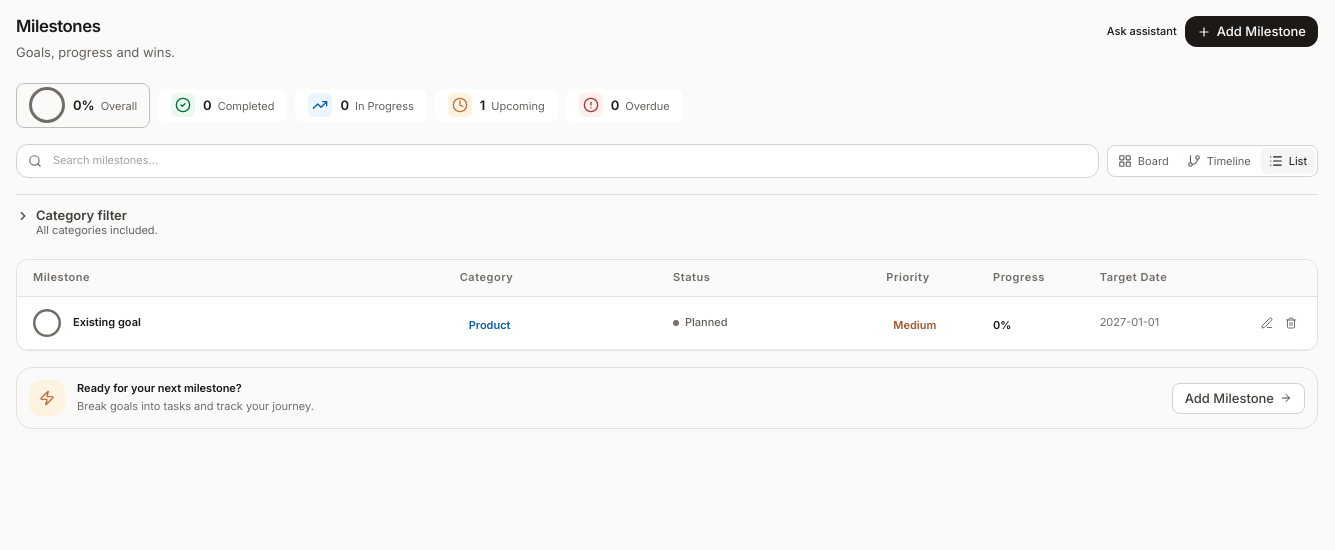
Test: milestone editing after the clarity layout change › renders a created record once when a write notification wins the race
expect the element named "Milestone details table" is shown: met, box x1=16 y1=259 x2=1318 y2=351
Click the button "Add Milestone" in the row of "Goals, progress and wins." at coordinates (1251, 32), box x1=1185 y1=16 x2=1318 y2=47
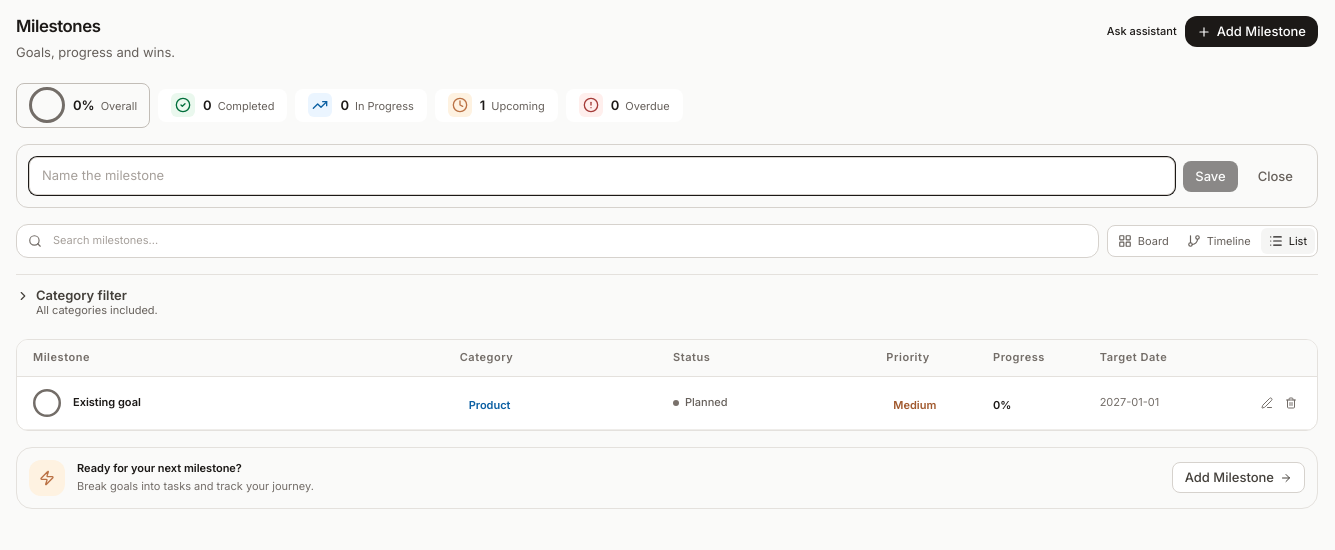
Type "Race fixture" into the field named "Milestone title" at coordinates (602, 176), box x1=29 y1=157 x2=1175 y2=195
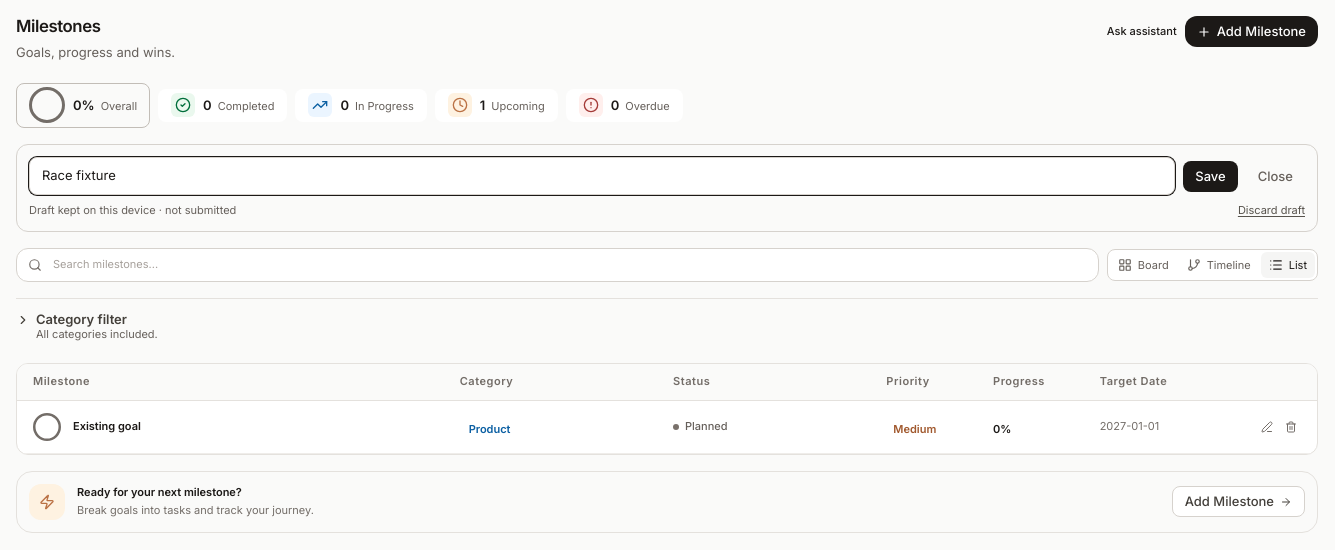
Click the button "Save" at coordinates (1210, 176), box x1=1183 y1=160 x2=1238 y2=192
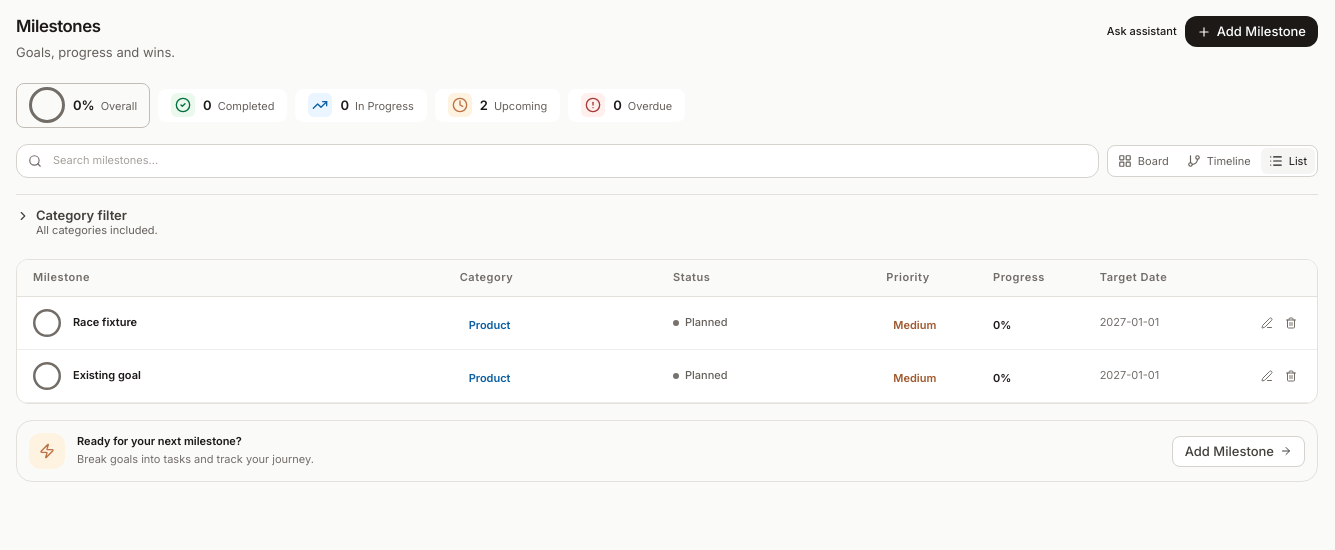
expect the text "Race fixture" is shown once: met, box x1=73 y1=315 x2=137 y2=331
